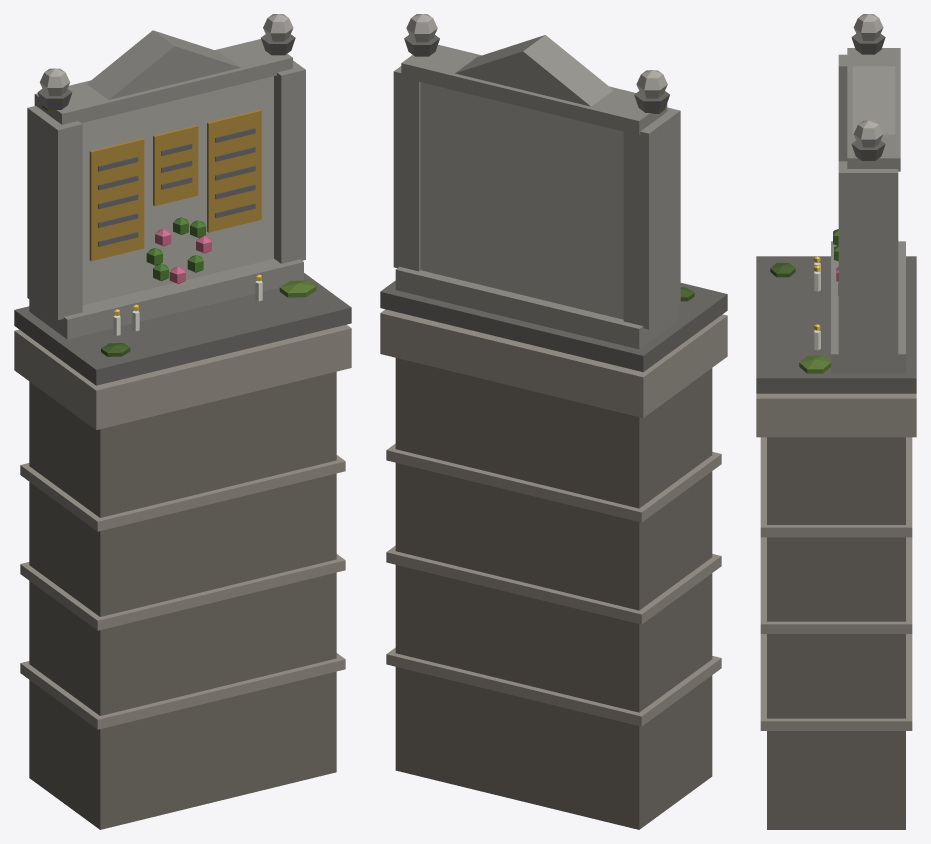
File: decor_memorial_wall.glb
3 renders of one model, left to right at view 1: azimuth 30°, elevation 25°; view 2: azimuth 150°, elevation 25°; view 3: azimuth 270°, elevation 25°, orthographic. The views are drawn at different scales.
Parts seen in each view (by area): view 1: decor_memorial_wall; view 2: decor_memorial_wall; view 3: decor_memorial_wall.
Boxes of the visible parts, x1,y1,x2,y2 form: decor_memorial_wall: (14, 14, 351, 829); decor_memorial_wall: (380, 14, 727, 829); decor_memorial_wall: (756, 14, 916, 829).
Bounding box in the file's own units: 2.7 × 7.3 × 1.5.
